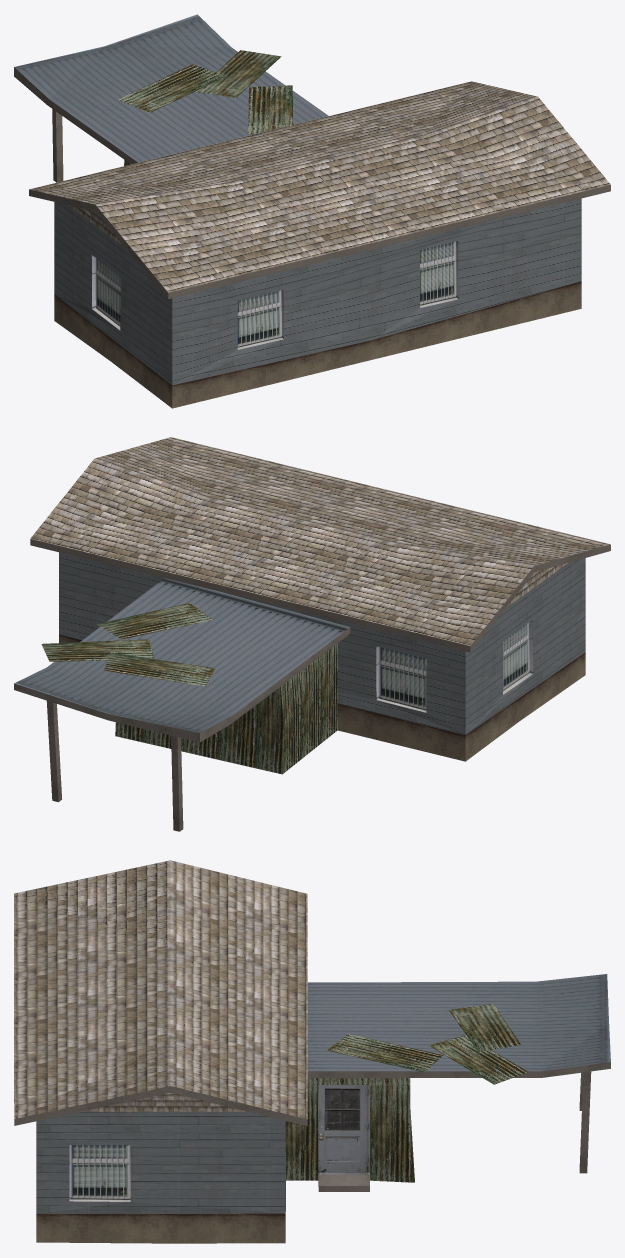
Rendered from conhoos5.obj.
3 views of the same model, one above another, from view 1: azimuth 30°, elevation 25°; view 2: azimuth 150°, elevation 25°; view 3: azimuth 270°, elevation 25° (orthographic). The views are drawn at different scales.
Visible parts, largest first — view 1: conhoos5; view 2: conhoos5; view 3: conhoos5.
Part boxes in pixels (x1,y1,x2,y2): conhoos5: (14,14,610,408); conhoos5: (14,437,610,831); conhoos5: (14,860,610,1243).
Size of the model in its own units: 11.93 by 4.1 by 13.28.
